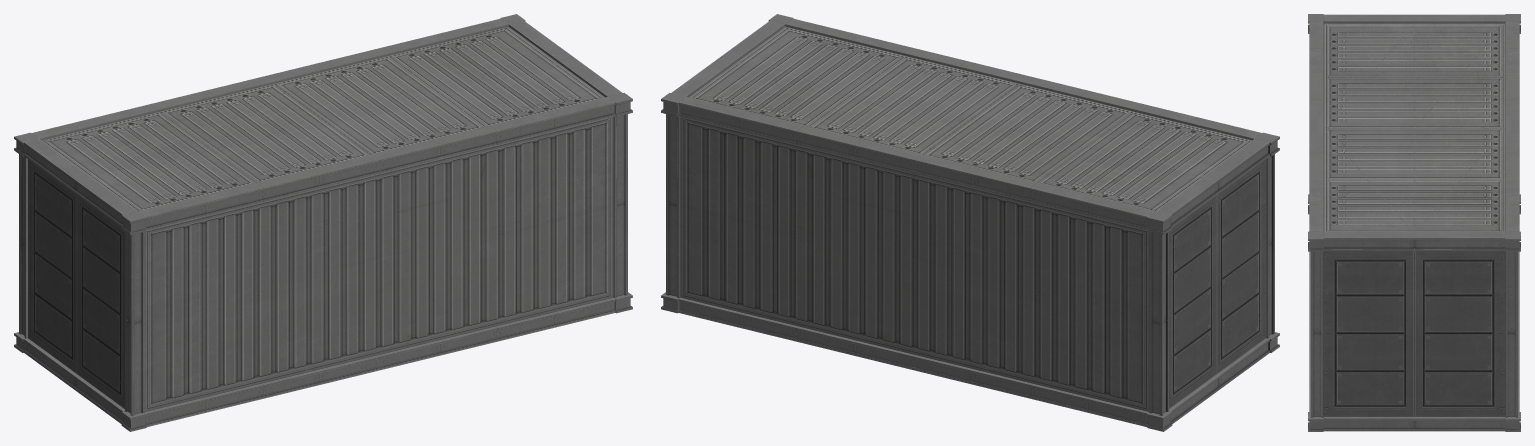
The picture shows the model from 3 angles, left to right: view 1: azimuth 30°, elevation 25°; view 2: azimuth 150°, elevation 25°; view 3: azimuth 270°, elevation 25°; orthographic projection. The views are drawn at different scales.
Parts seen in each view (by area): view 1: Side_Steel_LOW01; view 2: Side_Steel_LOW01; view 3: Side_Steel_LOW01.
Boxes of the visible parts, x1,y1,x2,y2 form: Side_Steel_LOW01: (14, 14, 632, 431); Side_Steel_LOW01: (661, 14, 1279, 431); Side_Steel_LOW01: (1308, 14, 1520, 431).
Bounding box in the file's own units: 1000 × 400 × 400.
